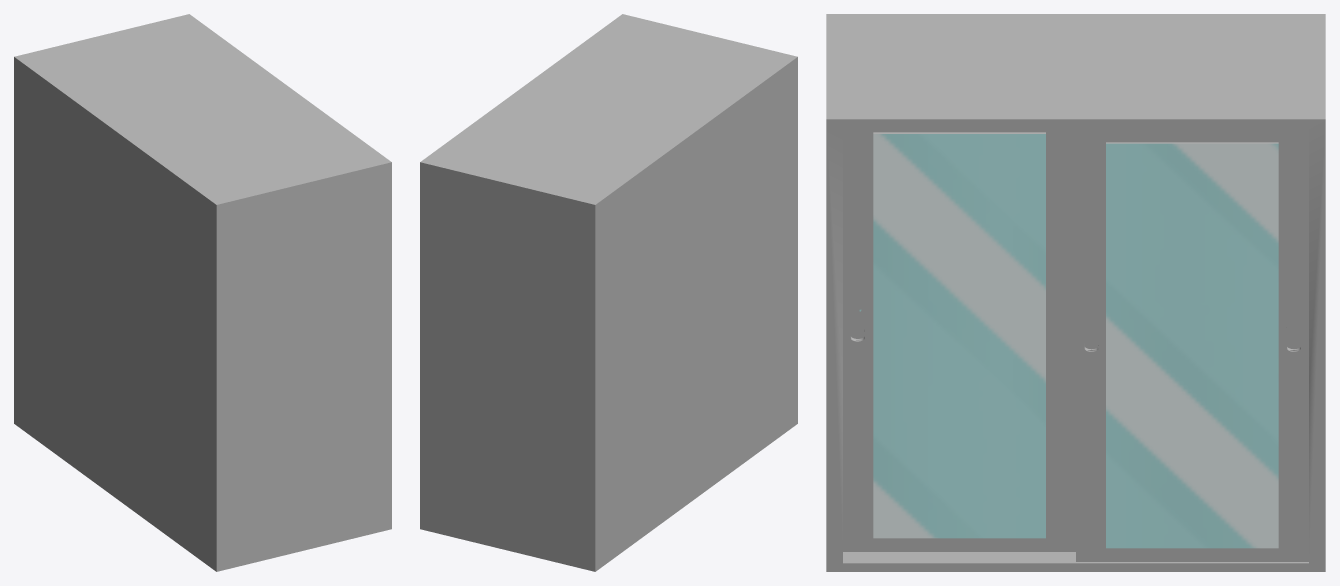
File: Props_Shelf_02.fbx
The picture shows the model from 3 angles, left to right: view 1: azimuth 30°, elevation 25°; view 2: azimuth 150°, elevation 25°; view 3: azimuth 270°, elevation 25°; orthographic projection. The views are drawn at different scales.
Visible parts, largest first — view 1: Props_Shelf_02; view 2: Props_Shelf_02; view 3: Props_Shelf_02.
Part boxes in pixels (bbox=[...]): Props_Shelf_02: bbox=[14, 14, 391, 571]; Props_Shelf_02: bbox=[420, 14, 797, 571]; Props_Shelf_02: bbox=[826, 14, 1325, 571].
Bounding box in the file's own units: 100 × 200 × 200.
